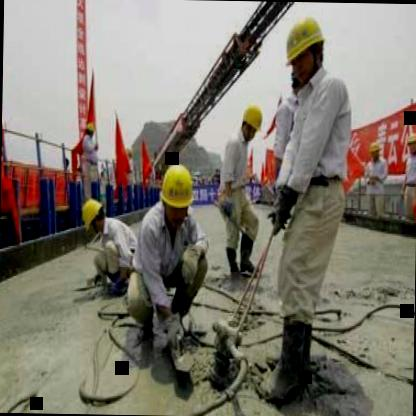helmet: (284, 4, 329, 90), (158, 158, 196, 228), (79, 193, 105, 233), (239, 99, 263, 142), (366, 138, 386, 164), (404, 126, 416, 156), (85, 120, 96, 138)
